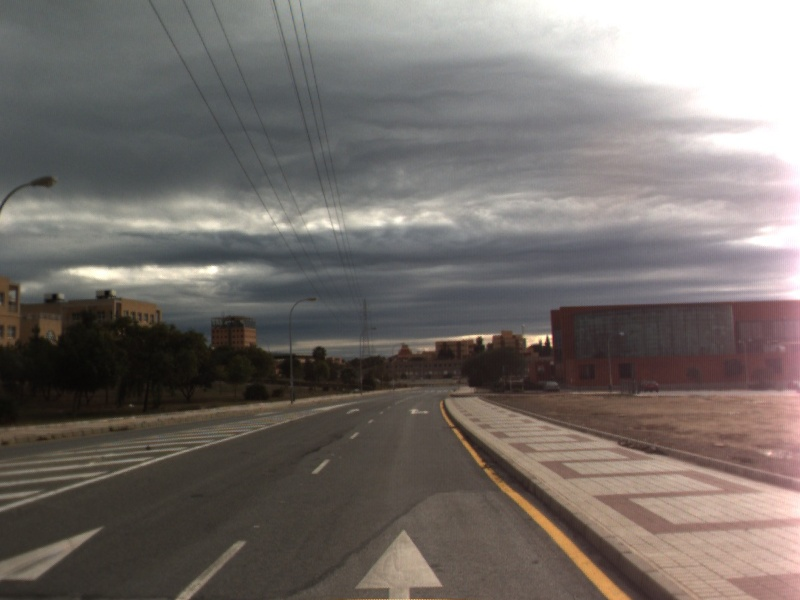STRAIGHT: (352, 527, 446, 600), (344, 407, 361, 416)
STRAIGHT_RIGHT: (406, 406, 432, 417)
